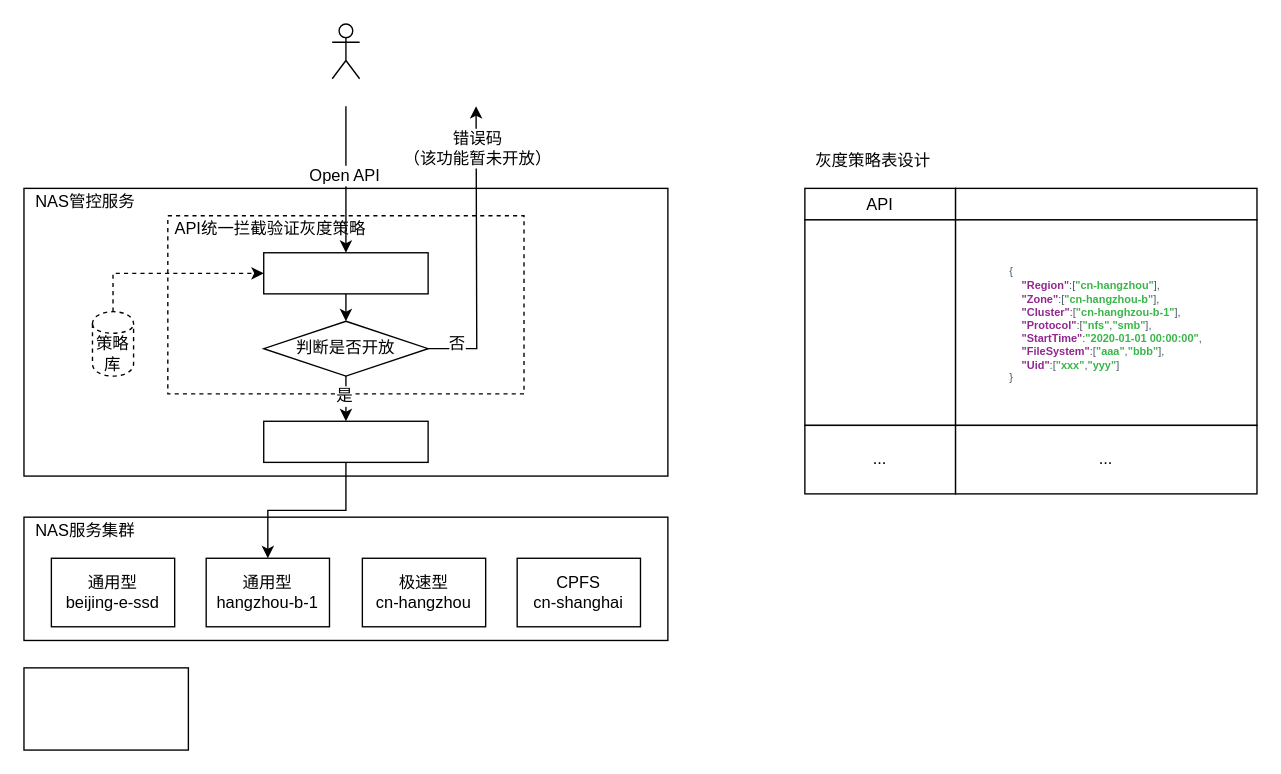
The diagram is 1281 pixels wide and 774 high, and some of its shapes have lost their labels. Here are the shapes that lost their labels. From the top down, the centre of each, then its label:
At [345,51]: "User".
At [1105,203]: "GrayPolicy".
At [345,272]: "加载对应API灰度策略".
At [880,322]: "CreateTieringJobs".
At [345,441]: "具体业务实现".
